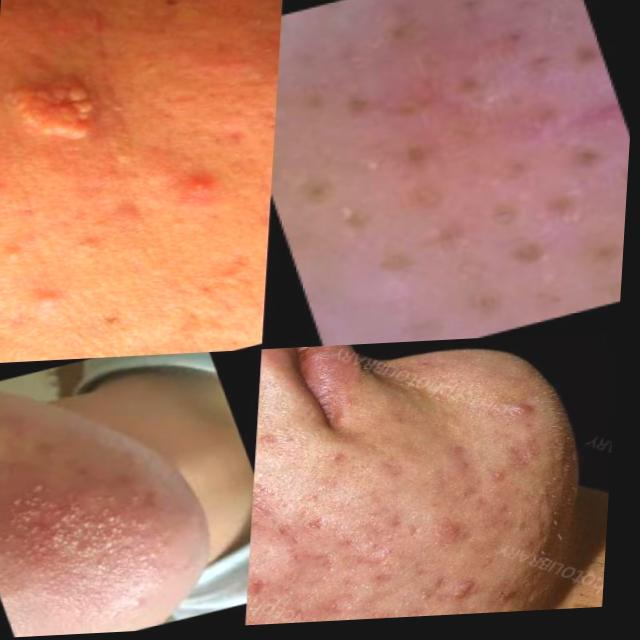8: (31, 280, 90, 313), (122, 588, 176, 624), (183, 171, 234, 205)
blackheads: (0, 59, 118, 158), (422, 567, 519, 622), (488, 400, 555, 447), (421, 519, 482, 553), (252, 580, 285, 629)
dark spot: (359, 105, 480, 208), (497, 231, 589, 282), (481, 11, 551, 60), (79, 232, 126, 265), (0, 236, 43, 268)
